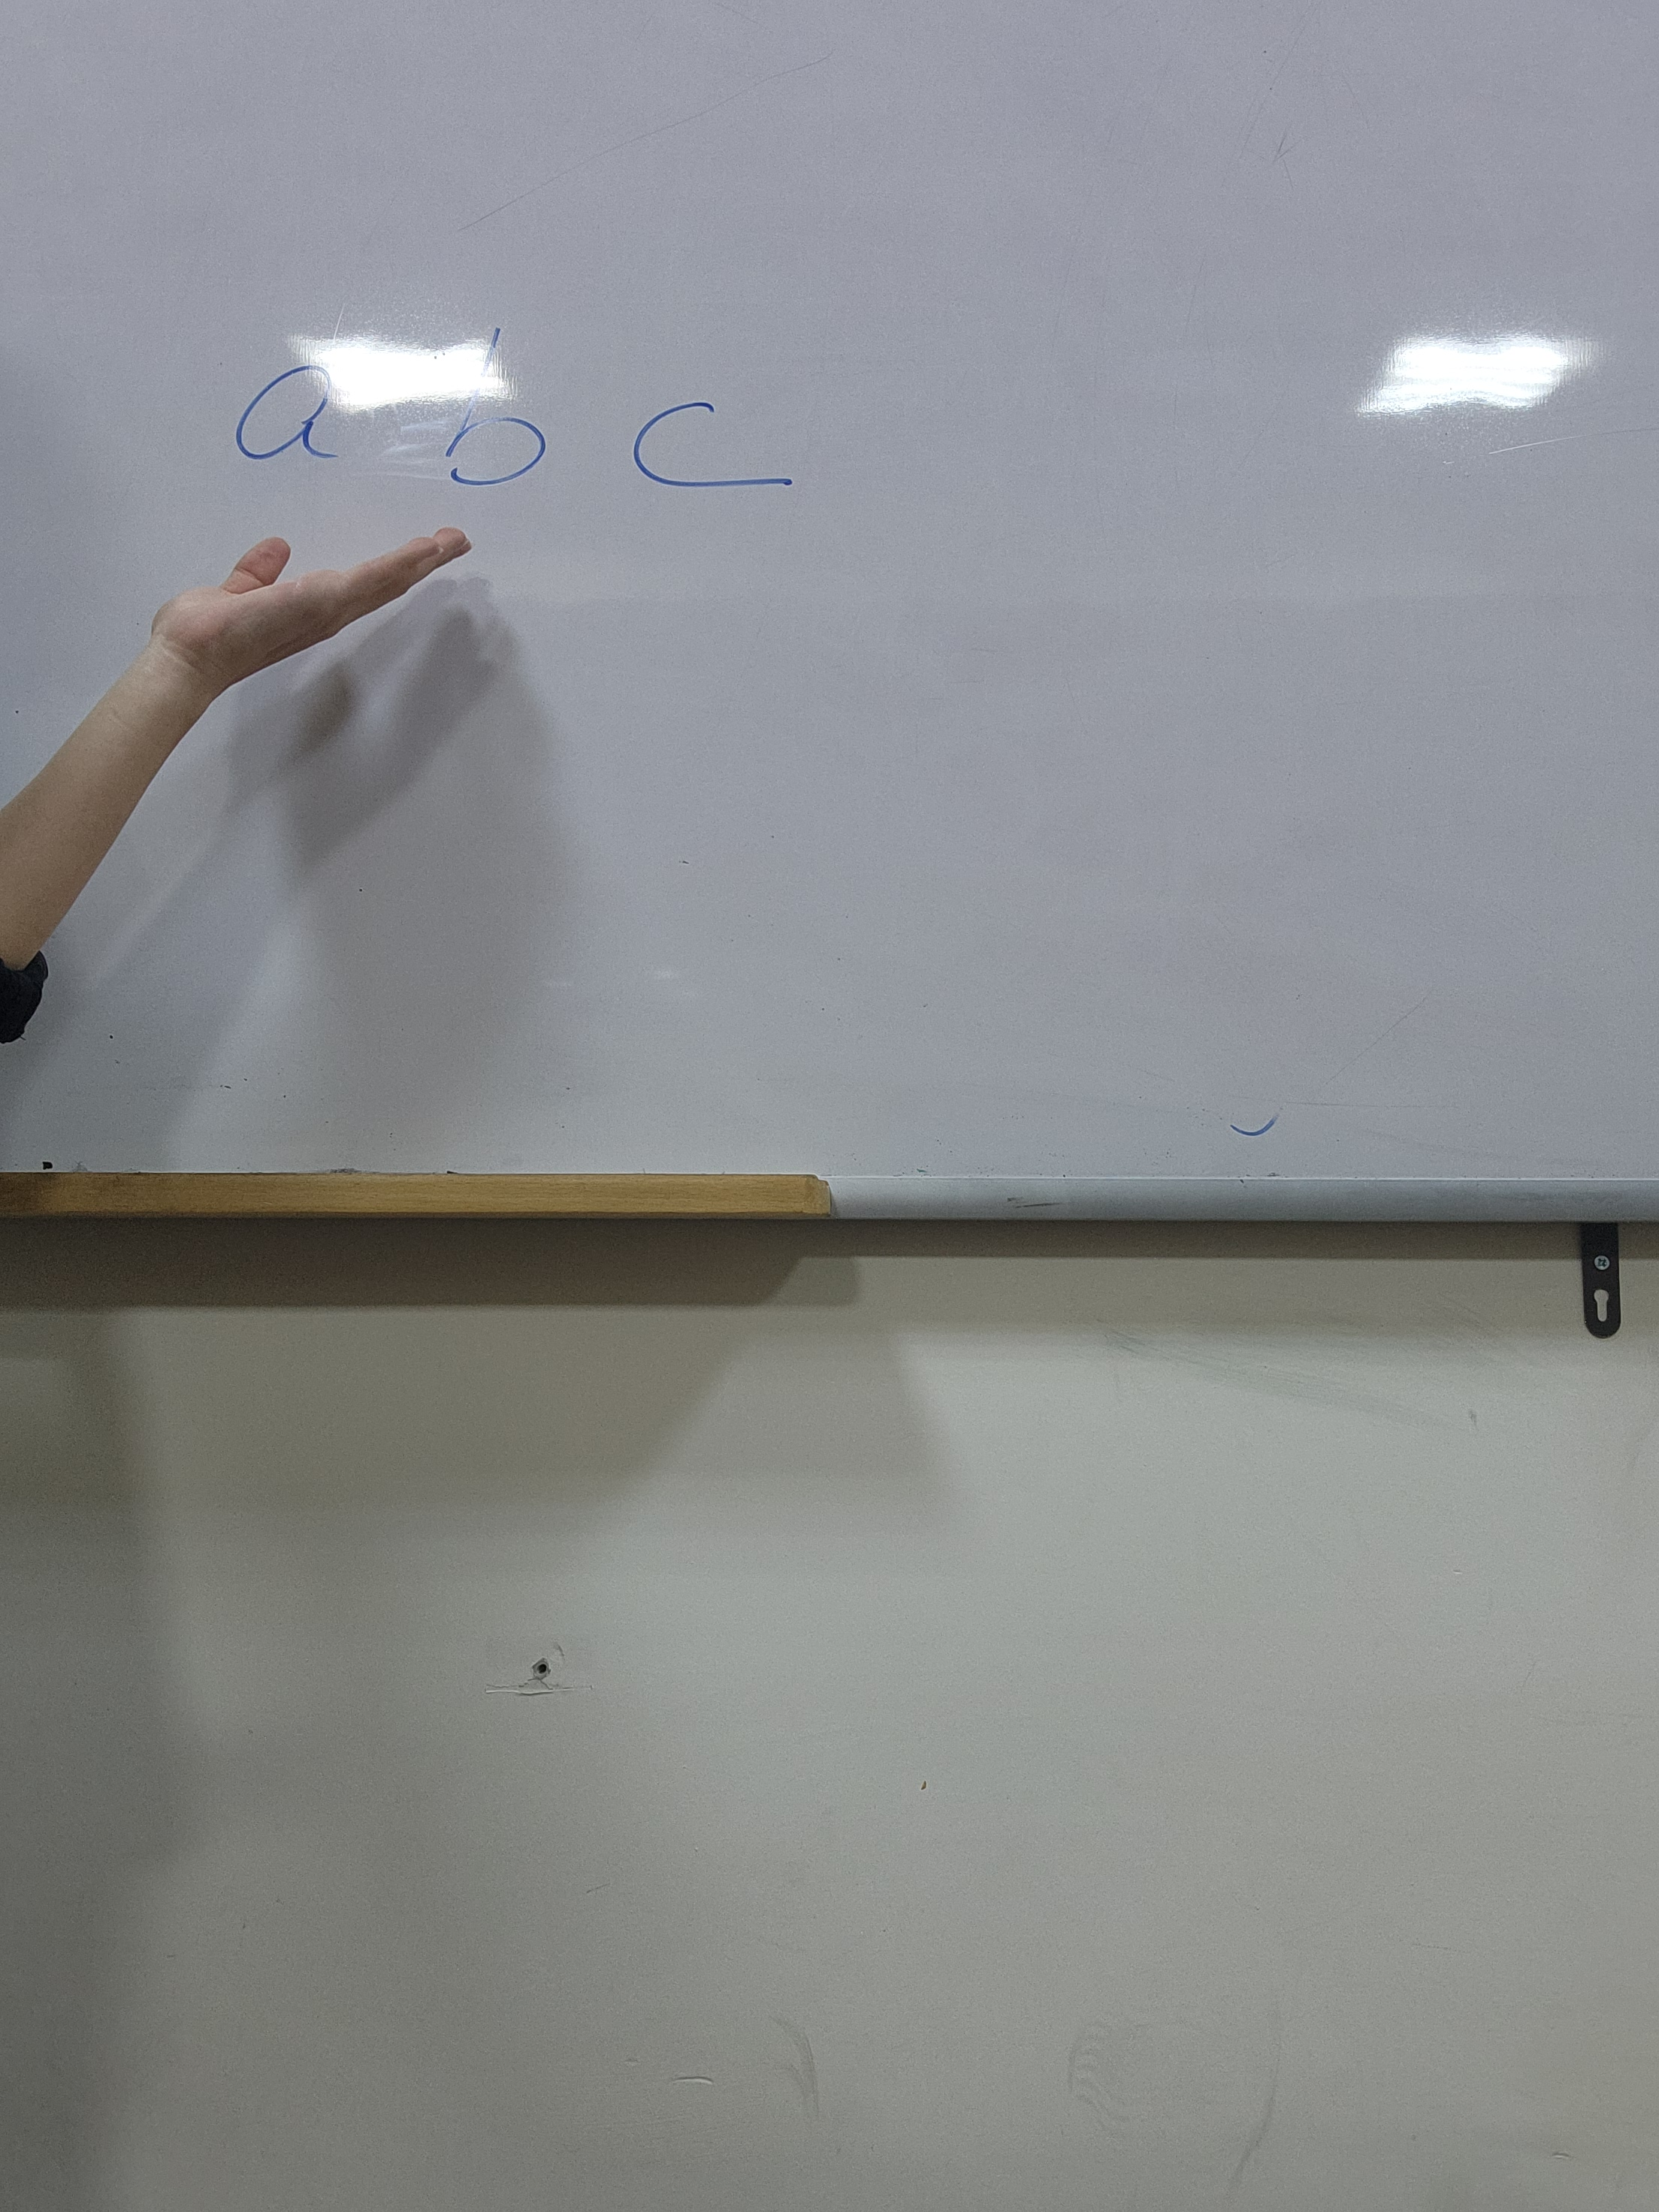pointing_gesture: (101, 524, 525, 686)
